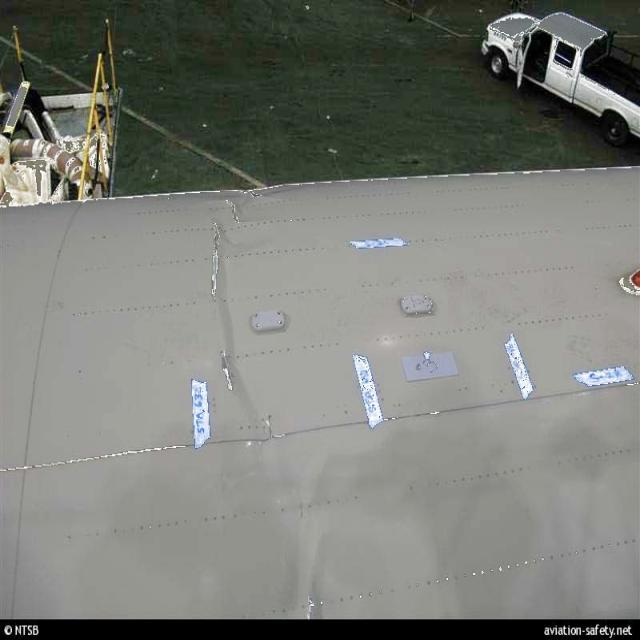crack: (208, 218, 224, 300), (220, 348, 234, 394), (225, 198, 242, 227)
